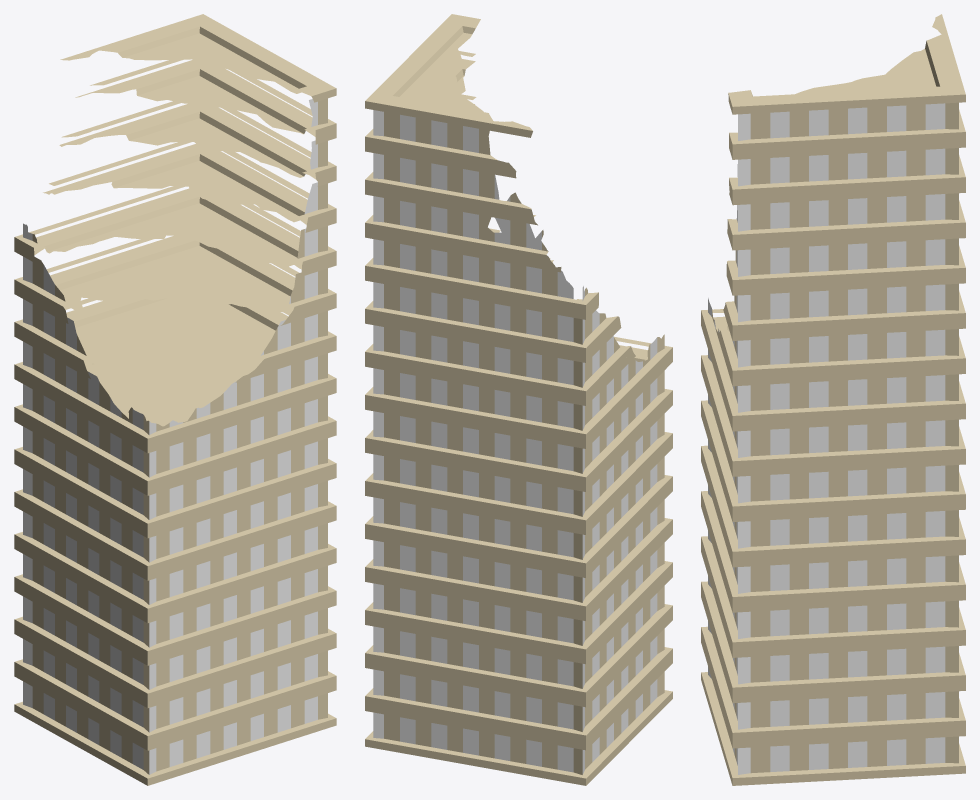
The model's file is Building3.010.gltf.
3 views of the same model, side by side, from view 1: azimuth 30°, elevation 25°; view 2: azimuth 150°, elevation 25°; view 3: azimuth 270°, elevation 25° (orthographic). The views are drawn at different scales.
Parts seen in each view (by area): view 1: Building3.010; view 2: Building3.010; view 3: Building3.010.
Part boxes in pixels (box(x1,y1,x2,y2)): Building3.010: box(14, 14, 336, 785); Building3.010: box(365, 14, 672, 785); Building3.010: box(701, 14, 965, 785).
Size of the model in its own units: 60.38 by 162 by 57.17.
